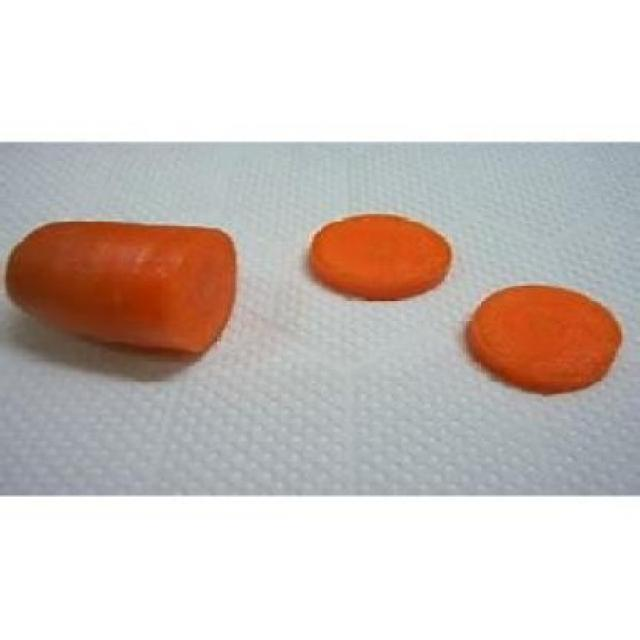carrot: (2, 206, 253, 369)
